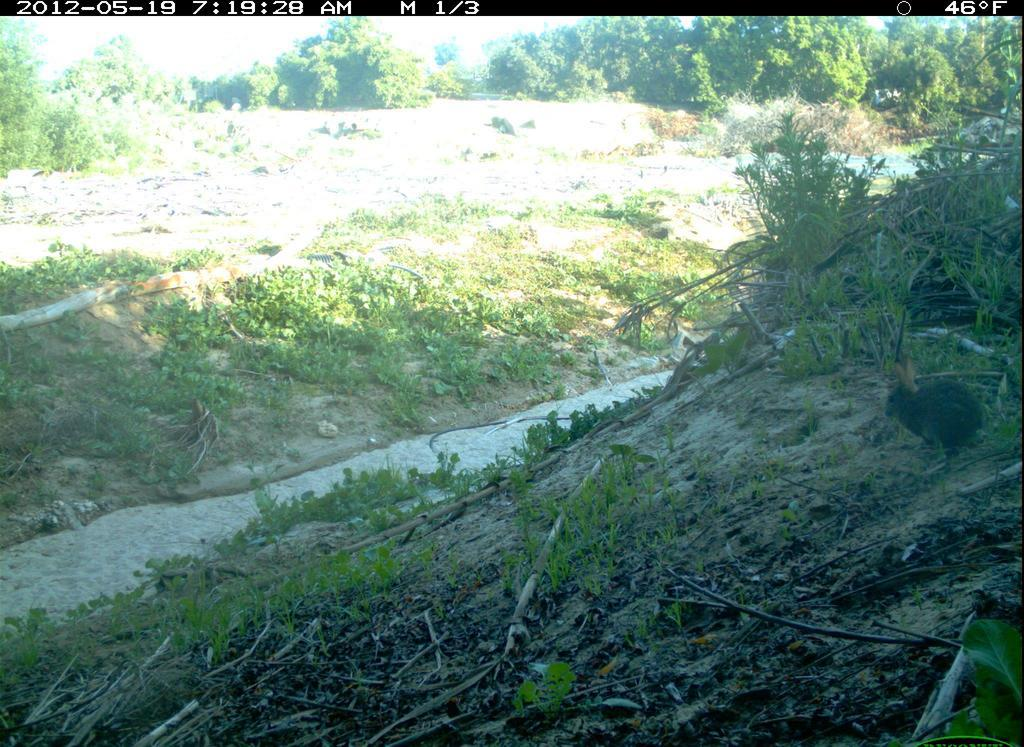rabbit: (873, 342, 1004, 482)
